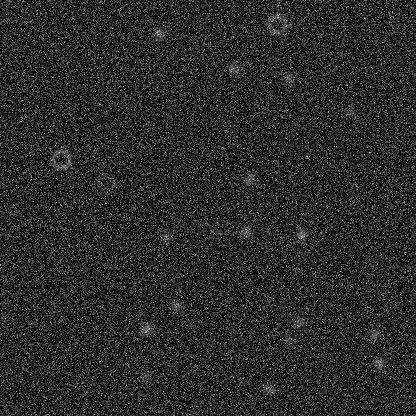Ring: (92, 170, 116, 194), (264, 12, 288, 36), (49, 147, 73, 171)
Spot: (371, 354, 387, 370), (158, 228, 174, 244), (367, 325, 383, 341), (280, 70, 296, 86), (241, 171, 257, 187), (225, 60, 241, 76), (293, 227, 309, 243), (280, 332, 296, 348), (138, 367, 154, 383), (203, 222, 219, 238), (341, 104, 357, 120), (289, 314, 305, 330), (168, 297, 184, 313), (112, 139, 128, 155), (237, 223, 253, 239), (260, 381, 276, 397), (137, 321, 153, 337), (150, 26, 166, 42)
